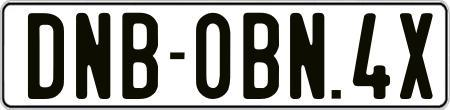0: (195, 13, 232, 102)
4: (352, 13, 389, 100)
B: (120, 13, 161, 100), (242, 10, 278, 102)
D: (27, 10, 68, 98)
N: (287, 10, 324, 99), (76, 12, 111, 103)
X: (397, 11, 431, 97)
